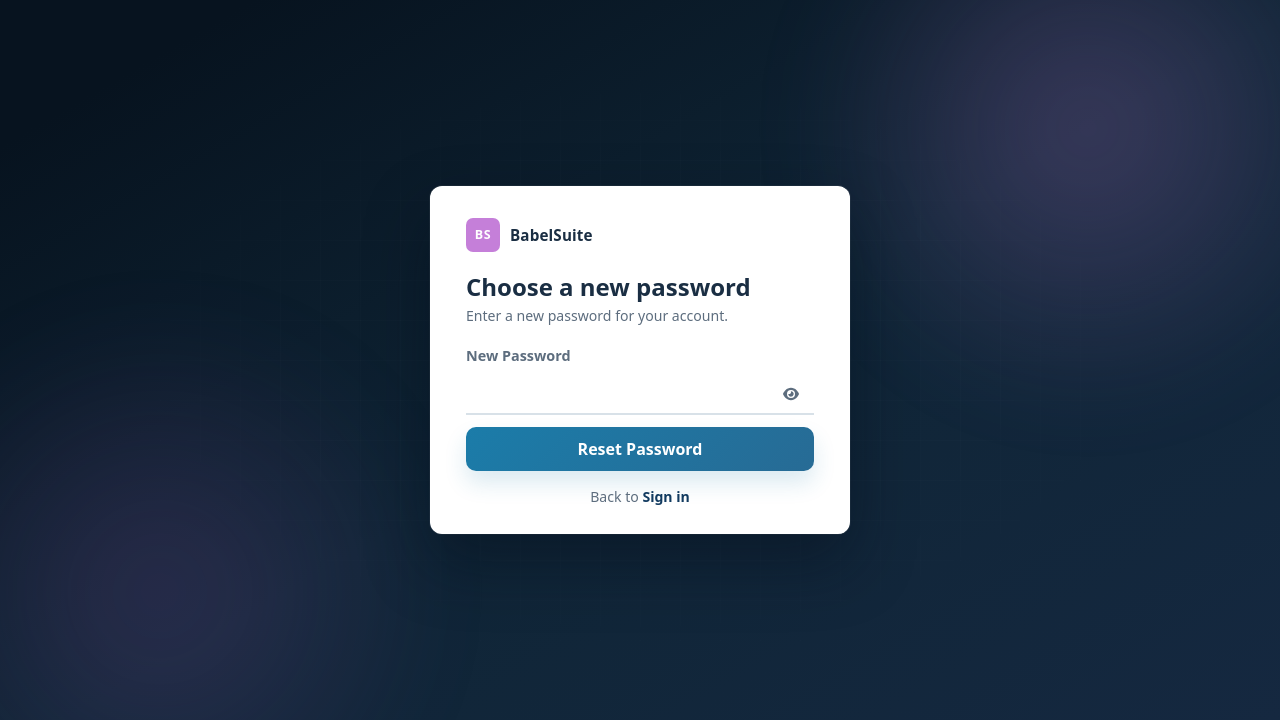
Test: ResetPassword › shows loading state while submitting
Type "pass" into the password field labelled "New Password" at (640, 394), box [466,373,814,415]
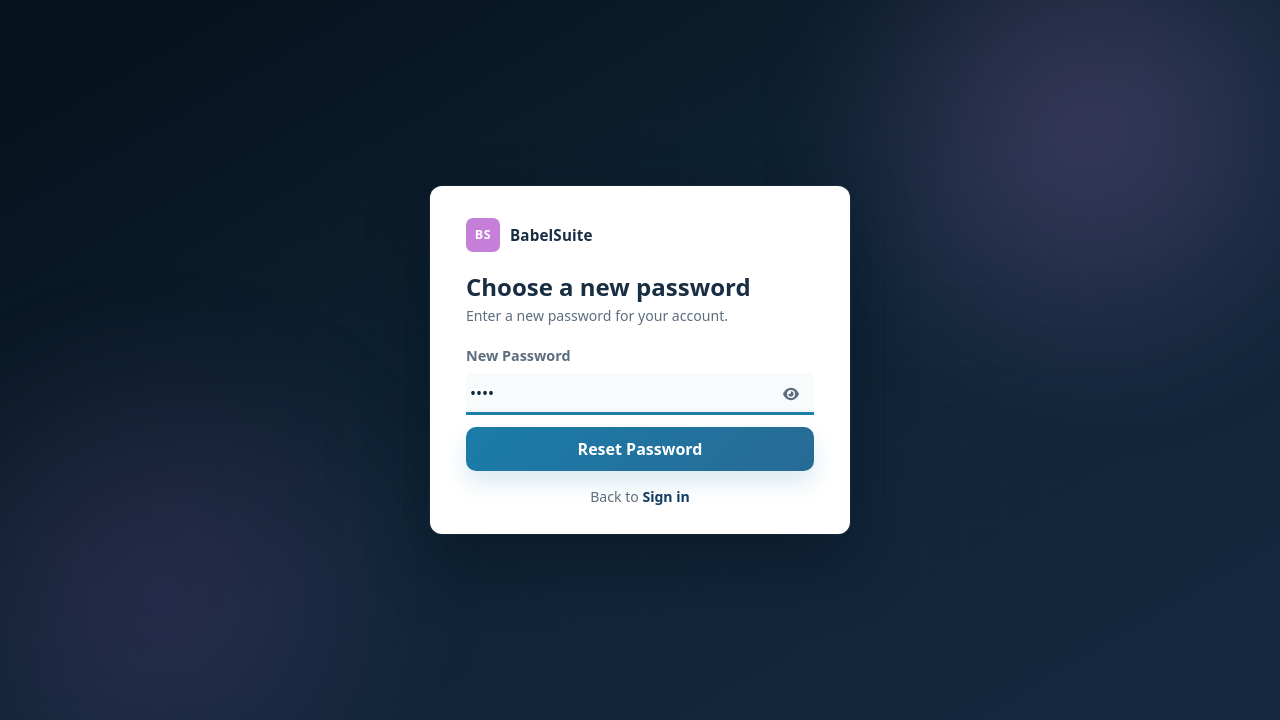
Click the button "Reset Password" at (640, 449), box [466,427,814,471]
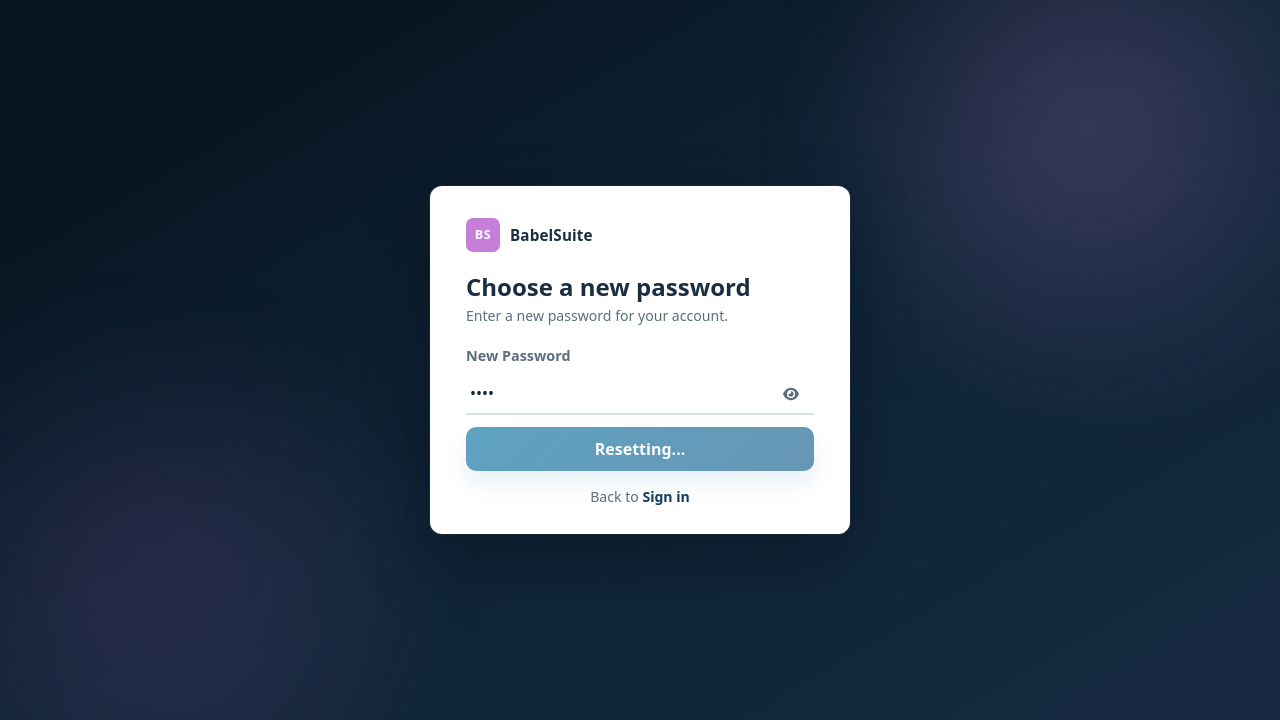
Now the button "Resetting..." is disabled, box [466,427,814,471]
